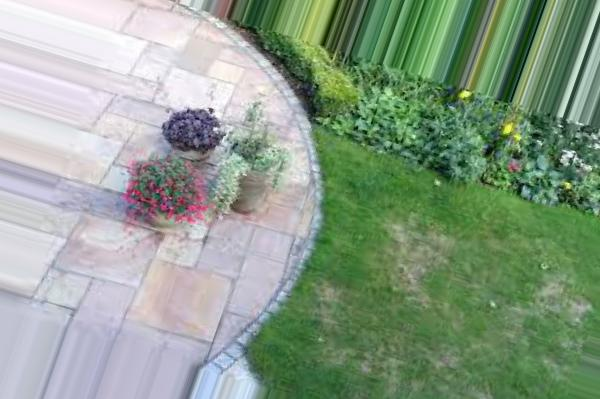patch: (141, 104, 282, 224), (394, 218, 448, 289), (530, 283, 579, 313), (425, 341, 464, 374)
